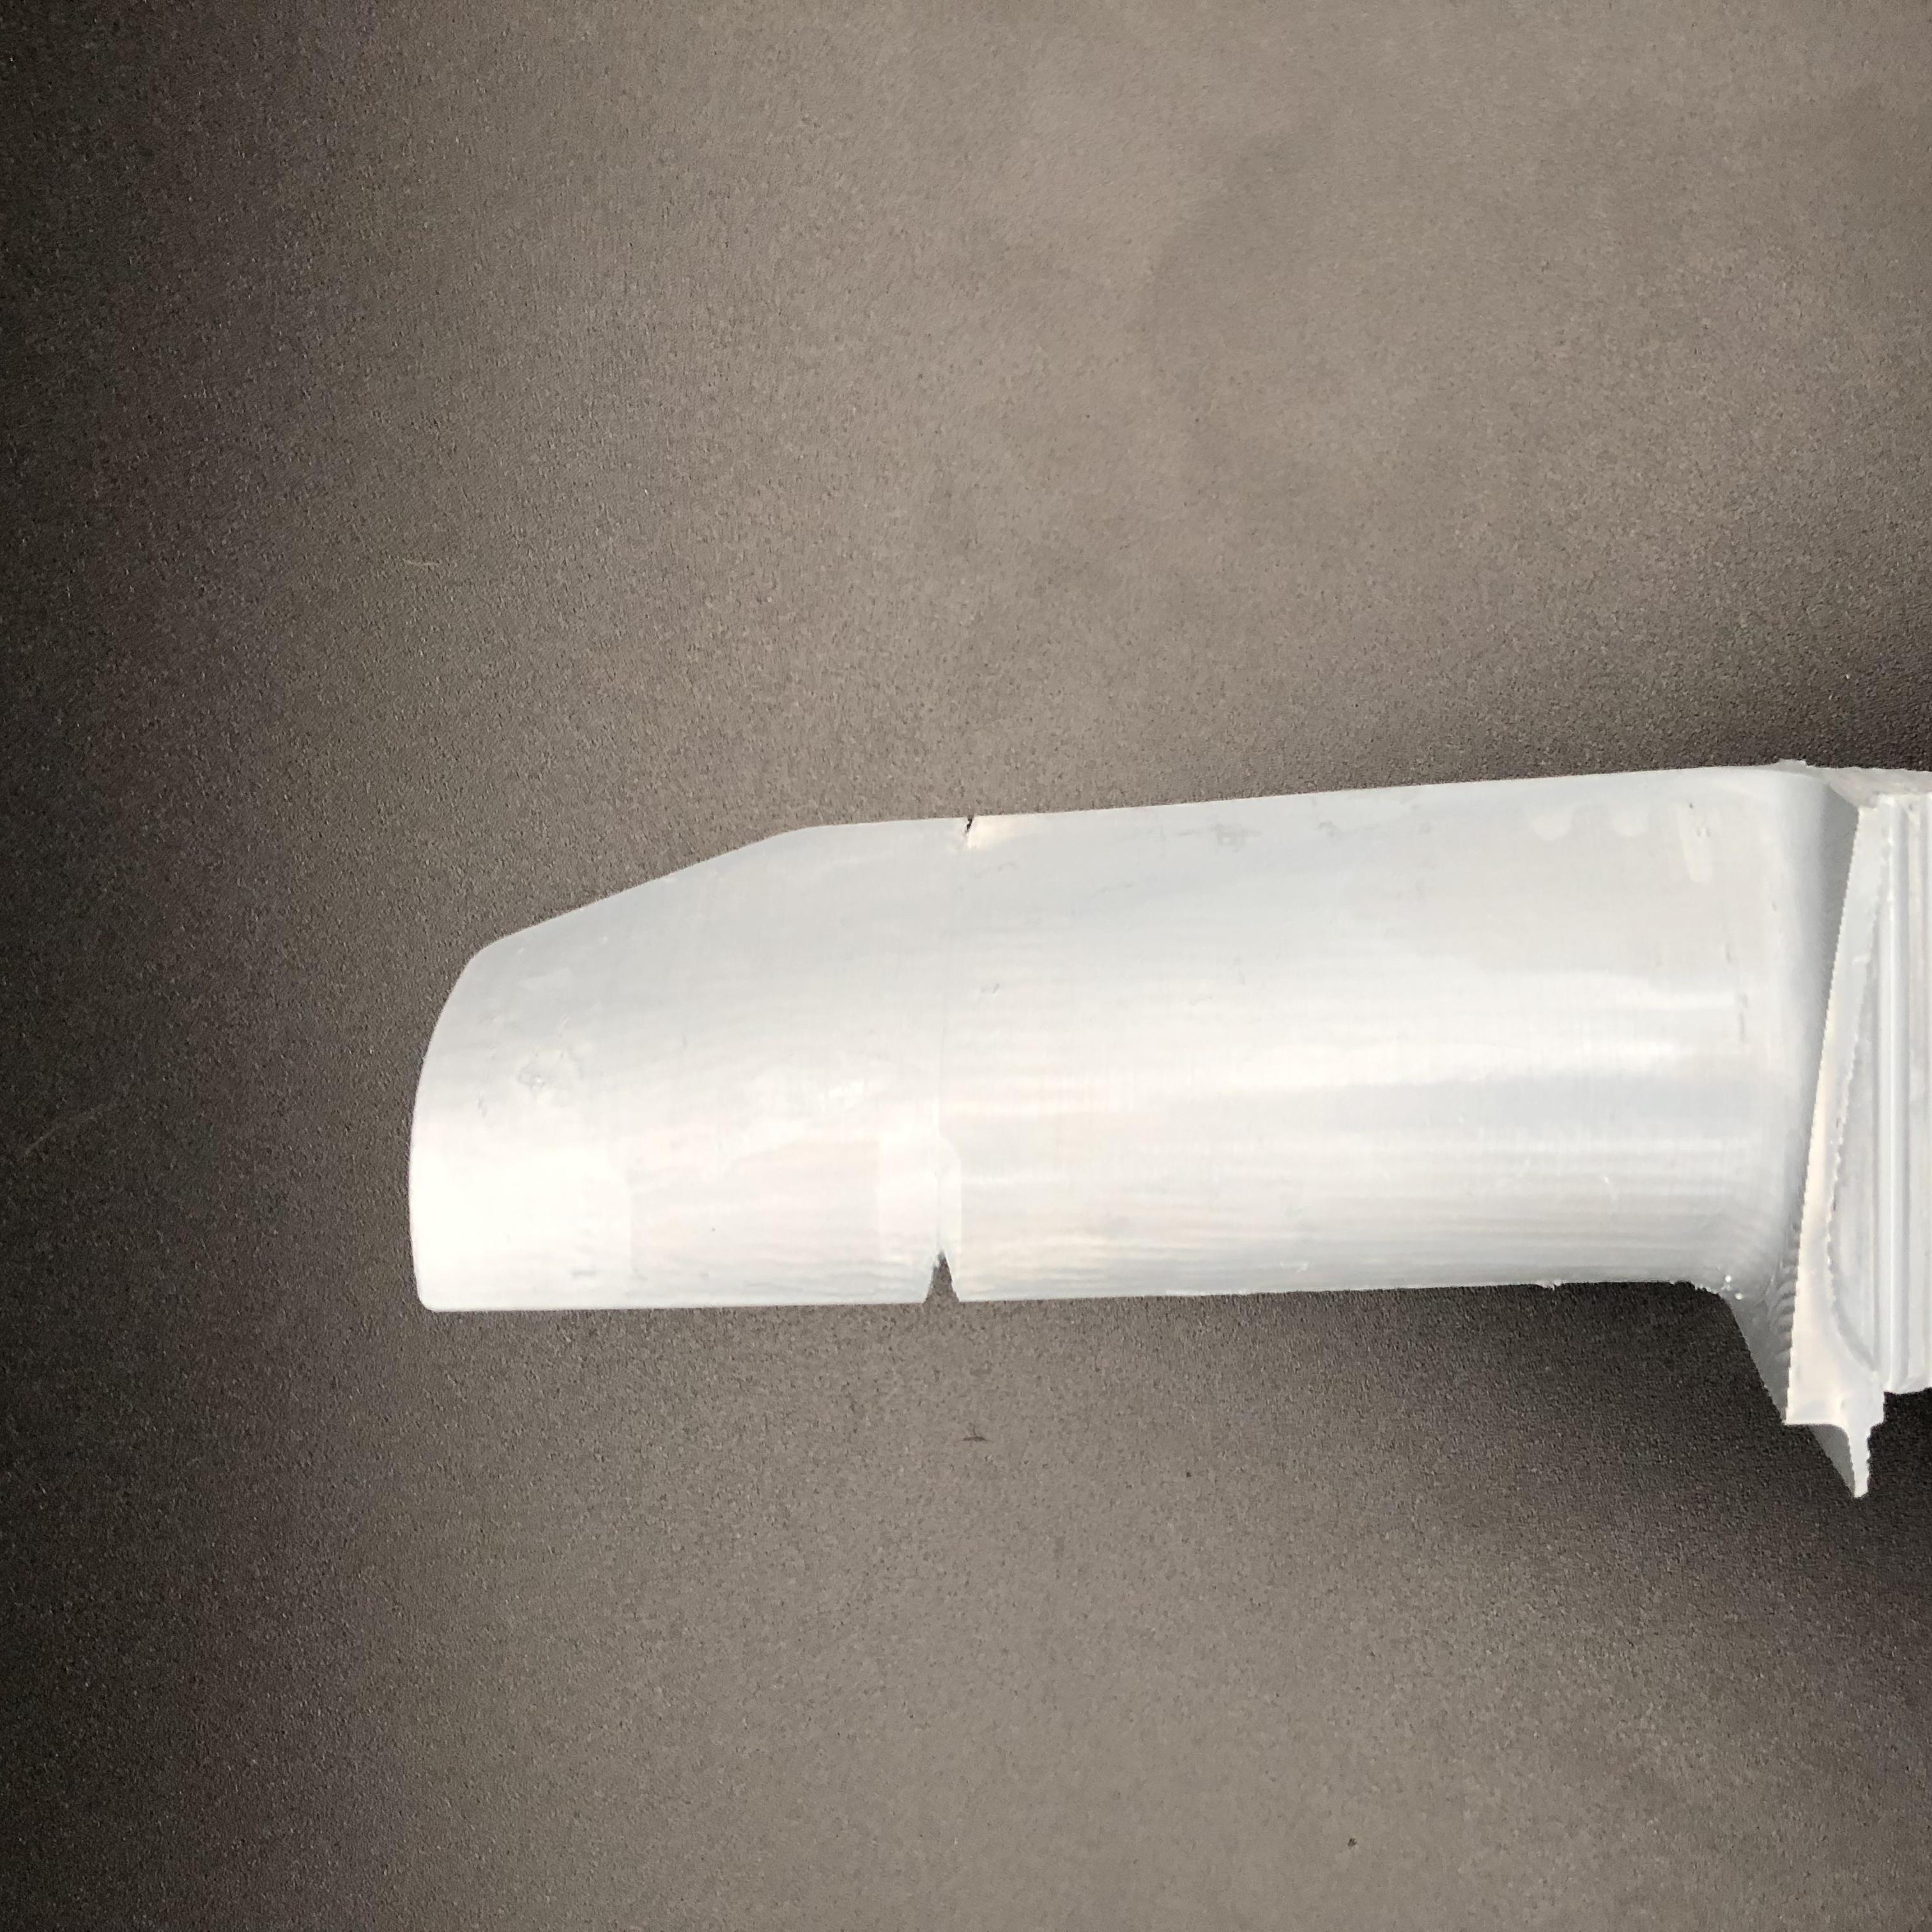groove: (918, 1253, 984, 1304), (955, 816, 987, 837)
